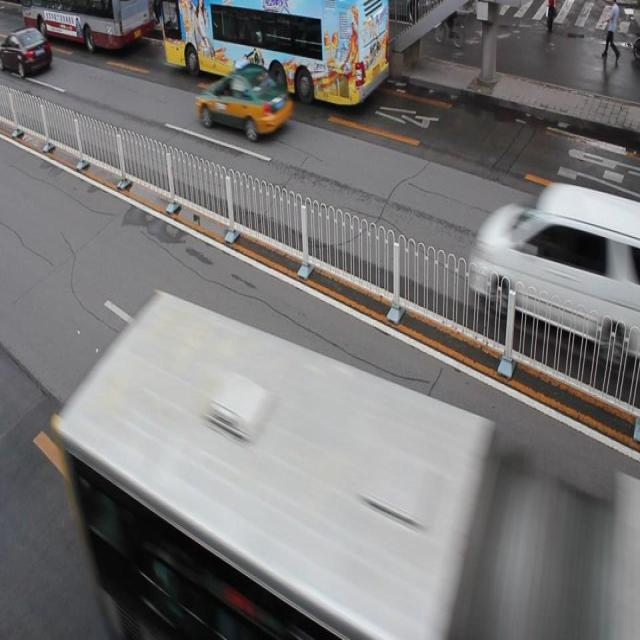car: (196, 61, 292, 138), (1, 25, 53, 79)
truck: (468, 182, 640, 354)
van: (59, 295, 640, 640), (160, 1, 389, 108), (23, 1, 152, 50)
